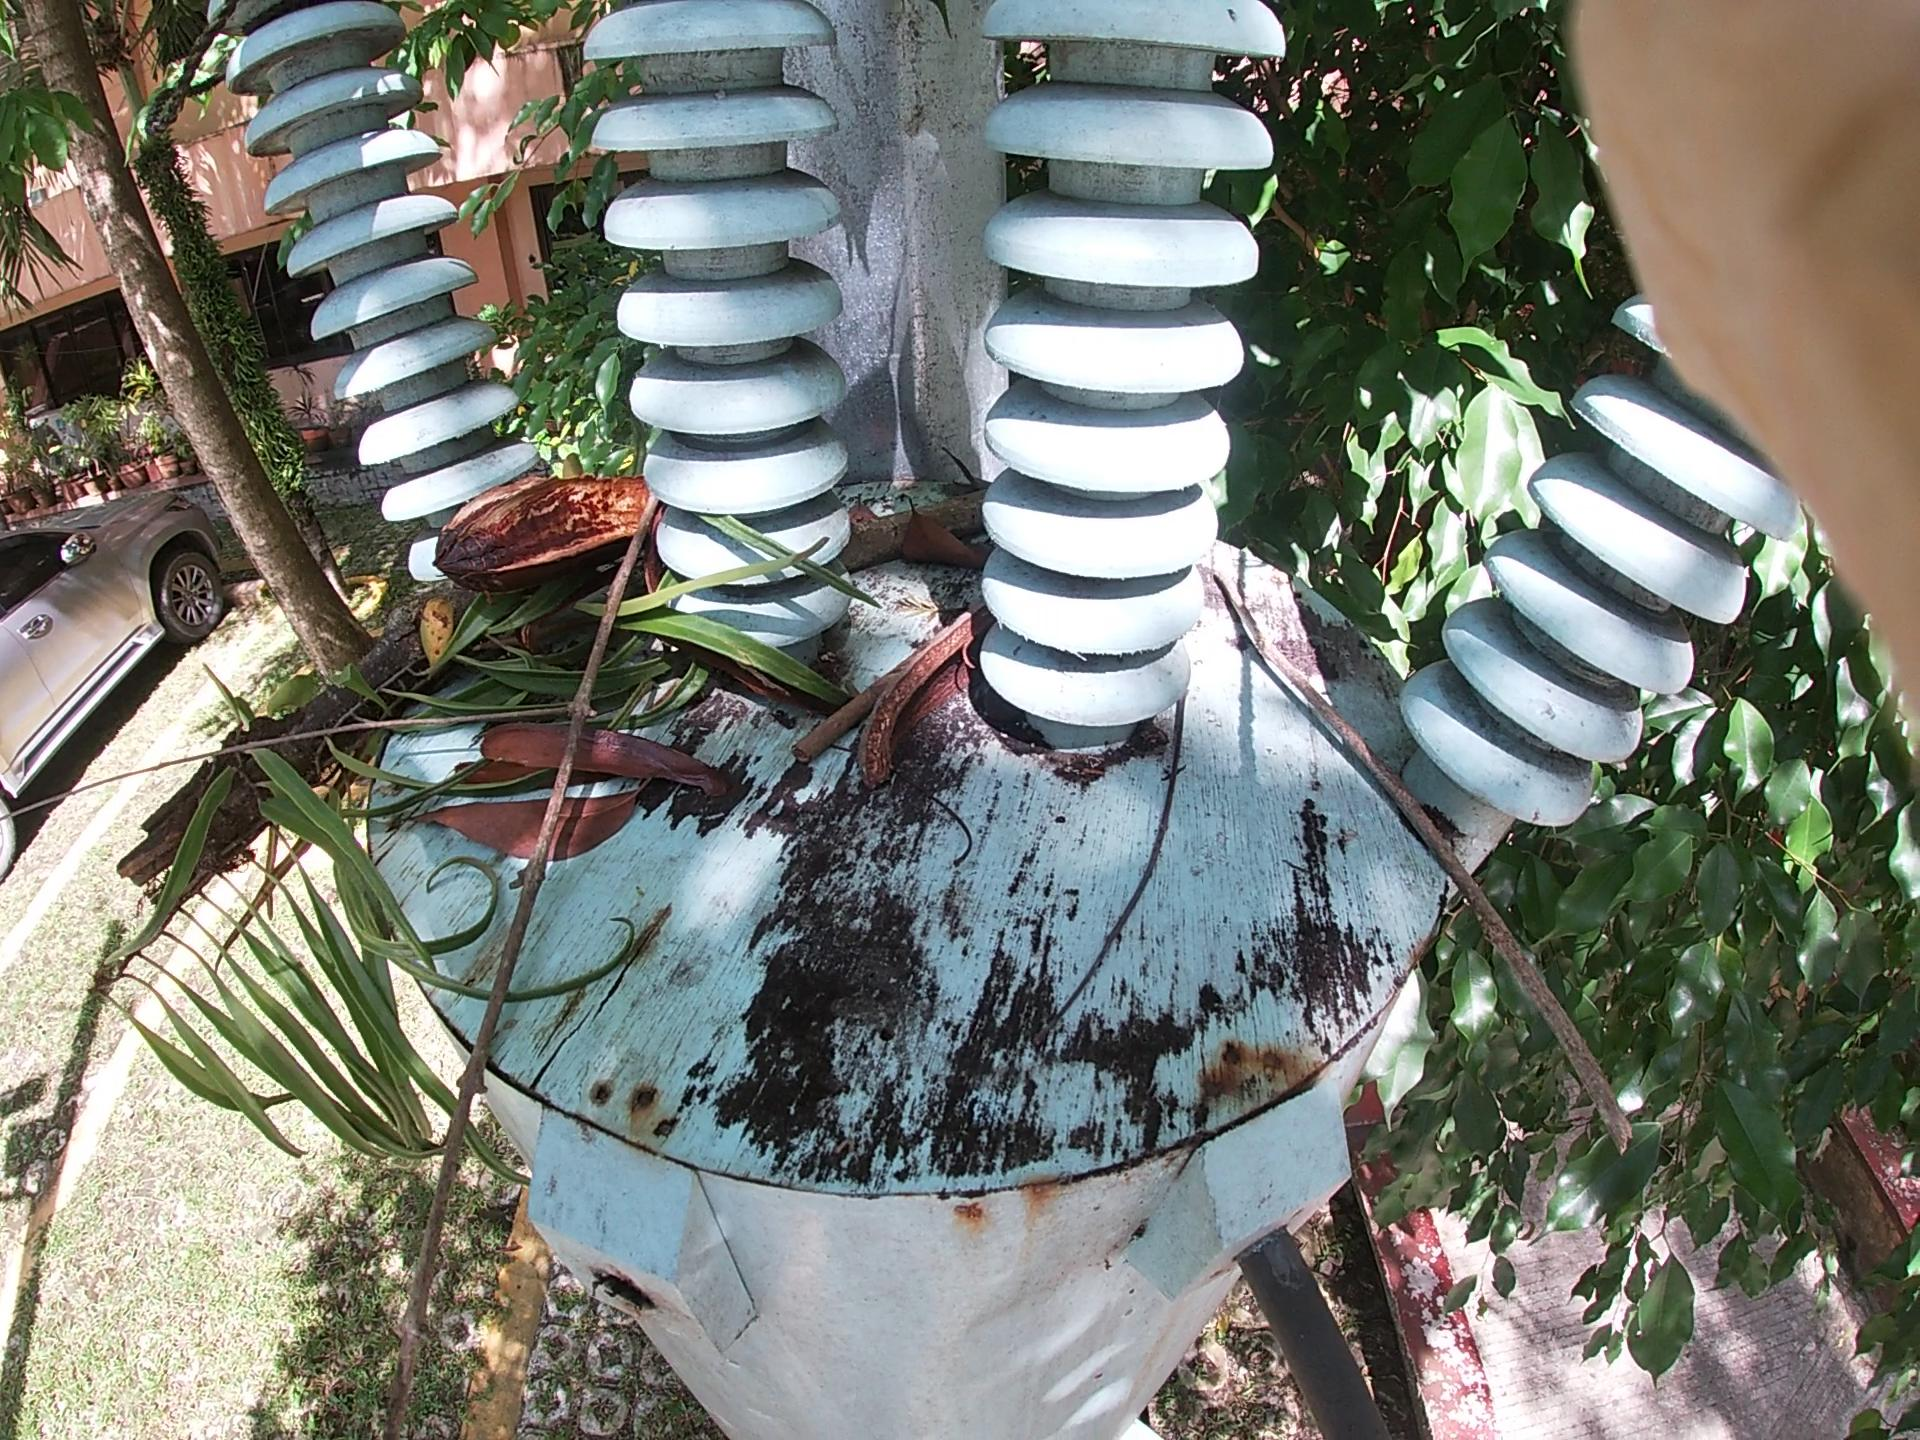branch with leaves: (154, 365, 862, 935)
leaf: (363, 641, 750, 948), (887, 489, 1020, 681)
mahogany fruit: (807, 554, 986, 809), (370, 455, 671, 557)
tree branch: (783, 357, 1321, 782), (425, 486, 685, 1355), (1190, 570, 1596, 1103), (1039, 554, 1237, 1050)
